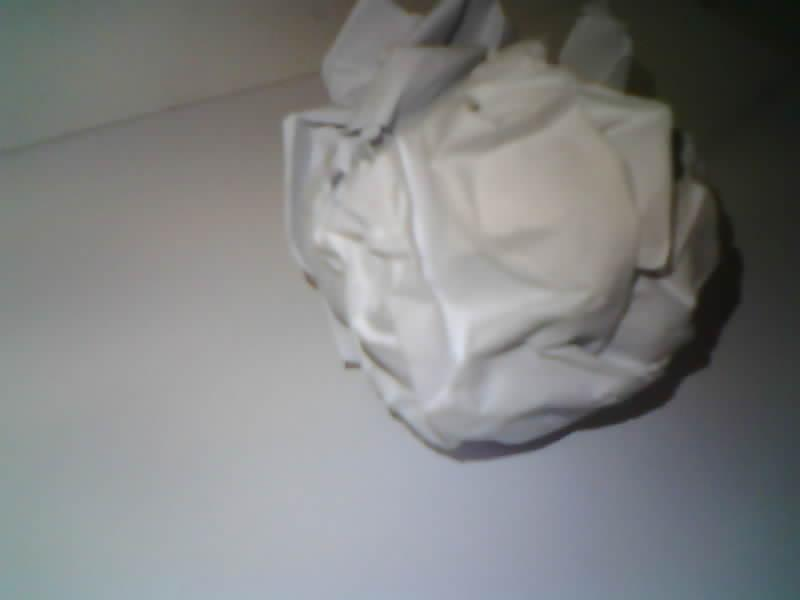biodegradable: (284, 0, 716, 448)
